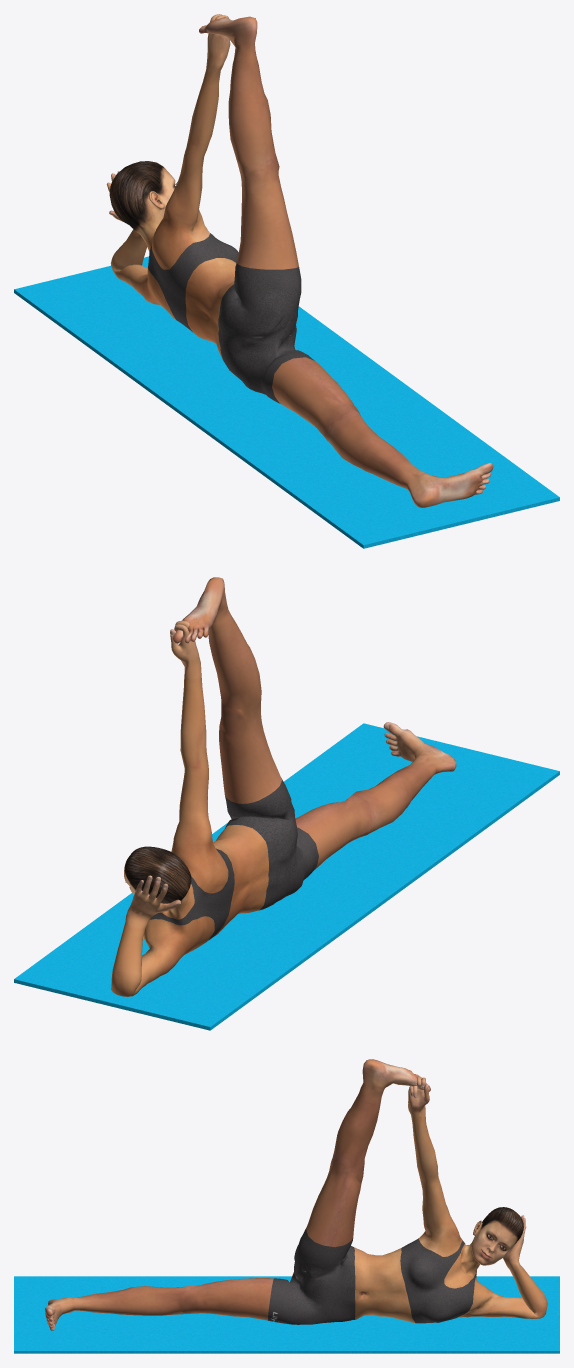
File: anantasana.glb
The picture shows the model from 3 angles, top to bottom: view 1: azimuth 30°, elevation 25°; view 2: azimuth 150°, elevation 25°; view 3: azimuth 270°, elevation 25°; orthographic projection. The views are drawn at different scales.
Parts seen in each view (by area): view 1: mat_001-material, FemaleSkin-material; view 2: FemaleSkin-material, mat_001-material; view 3: FemaleSkin-material, mat_001-material.
Part boxes in pixels (box(x1,y1,x2,y2)): mat_001-material: box(14, 256, 559, 548); FemaleSkin-material: box(106, 14, 493, 507); FemaleSkin-material: box(111, 577, 456, 996); mat_001-material: box(14, 723, 559, 1030); FemaleSkin-material: box(45, 1059, 547, 1330); mat_001-material: box(14, 1276, 559, 1353).
Bounding box in the file's own units: 2 × 3.27 × 6.17.
2 materials, 2 textured.
